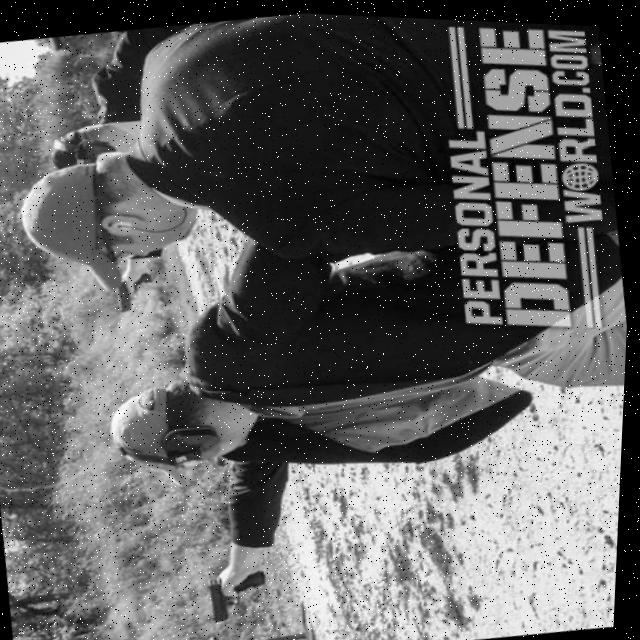pistol: (211, 571, 249, 621), (115, 277, 143, 312)
